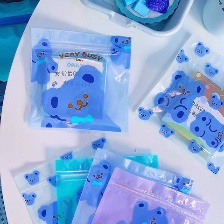snack: (7, 130, 214, 224), (127, 22, 224, 179), (23, 20, 135, 137)
